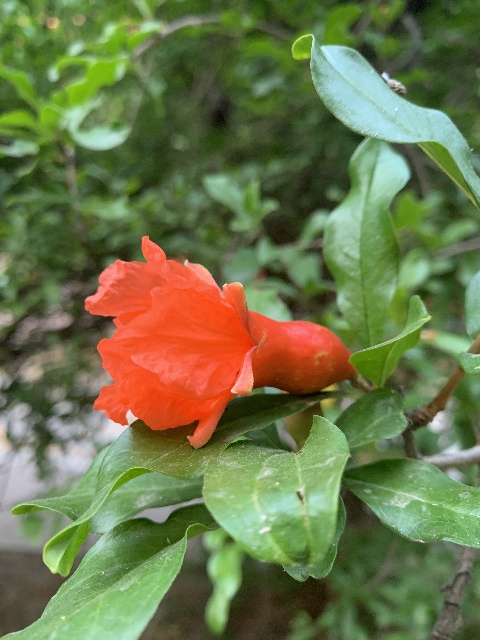flower: (82, 234, 351, 447)
